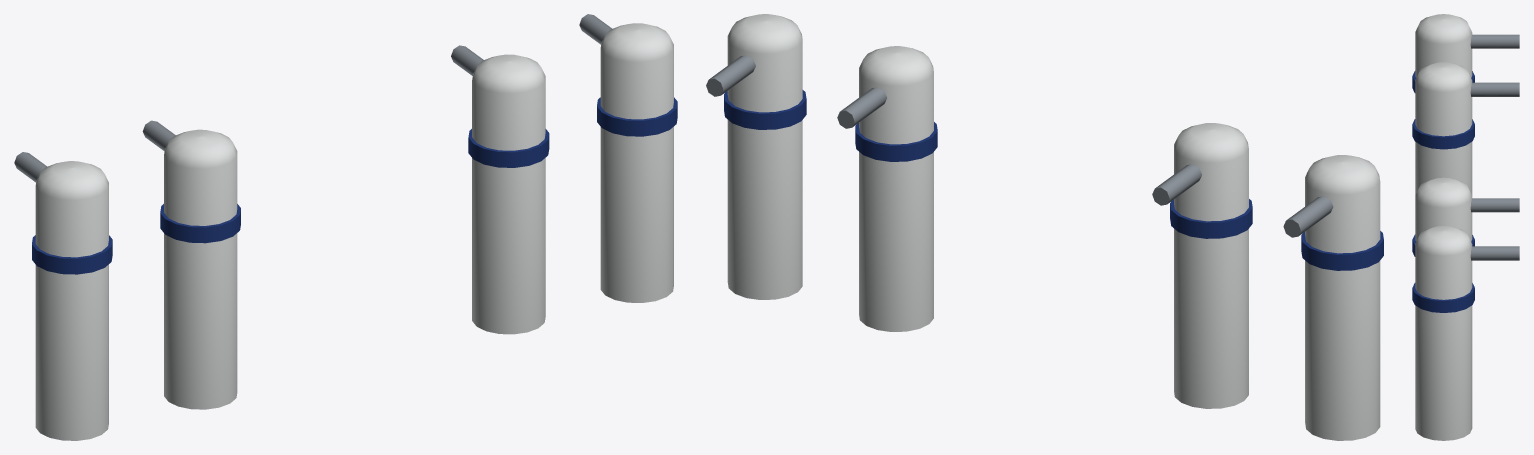
The model's file is l20_scrubber.obj.
The picture shows the model from 3 angles, left to right: view 1: azimuth 30°, elevation 25°; view 2: azimuth 150°, elevation 25°; view 3: azimuth 270°, elevation 25°; orthographic projection. The views are drawn at different scales.
Parts seen in each view (by area): view 1: l20_scrubber; view 2: l20_scrubber; view 3: l20_scrubber.
Part boxes in pixels (left/top/right/bottom): l20_scrubber: left=14, top=14, right=677, bottom=440; l20_scrubber: left=706, top=14, right=1383, bottom=440; l20_scrubber: left=1412, top=14, right=1519, bottom=440.
Size of the model in its own units: 2.97 by 1.15 by 0.565.
